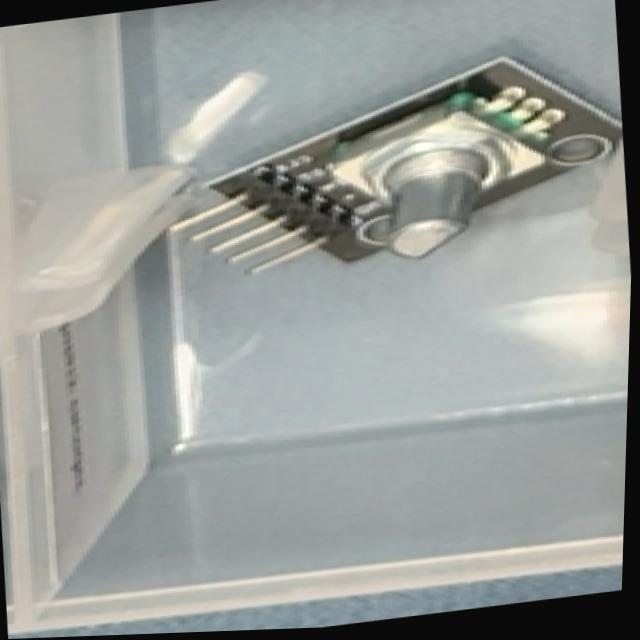Rotary Encoder: (147, 38, 633, 289)
